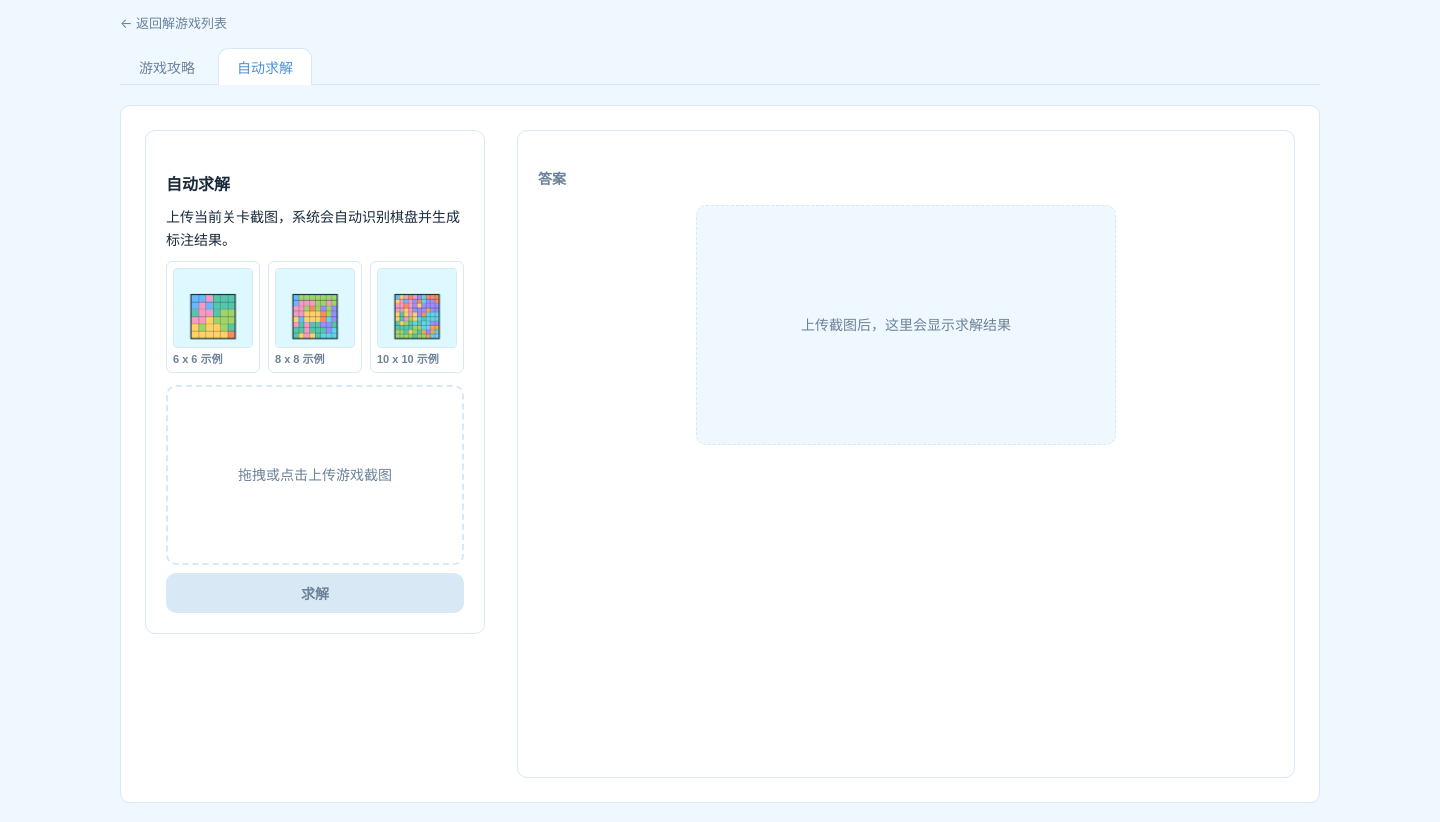
Test: SolveDetail › shows solve errors and restores the solve button
The width and height of the screenshot is (1440, 822).
Step 1. Click the button "6 x 6 示例" → (213, 317), box [166, 261, 260, 373]
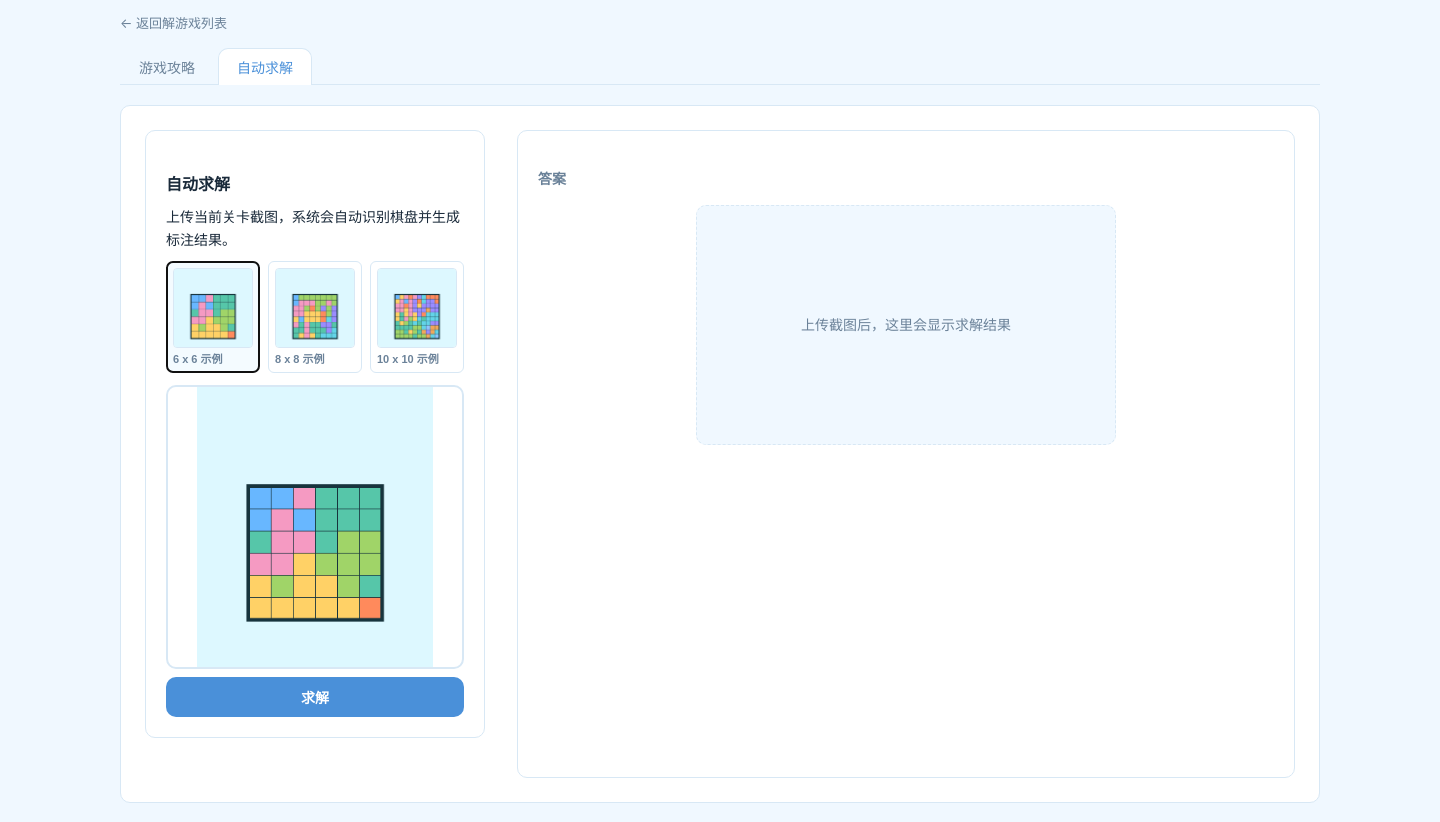
Step 2. Click the button "求解" → (315, 697), box [166, 677, 464, 717]
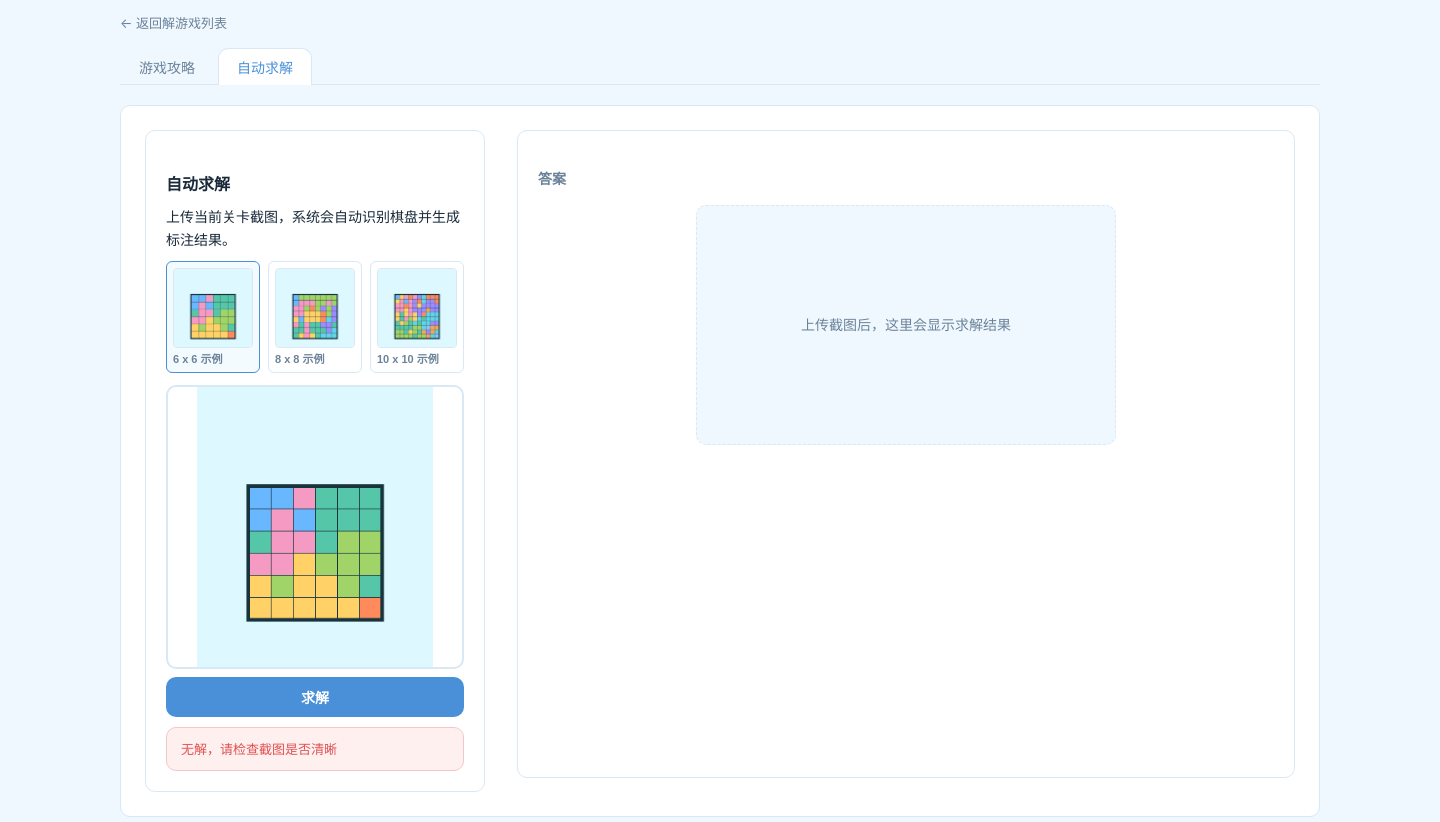
Expected: the button "求解" is enabled, [166, 677, 464, 717]
Expected: the text "无解，请检查截图是否清晰" is shown, [166, 727, 464, 771]
